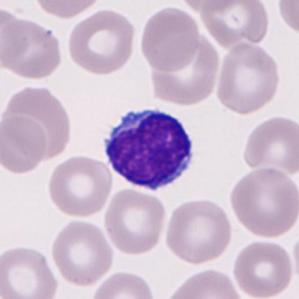Lymphocyte: (99, 102, 200, 196)
RBC: (1, 83, 74, 167), (147, 34, 223, 106), (227, 165, 298, 240), (214, 41, 283, 116), (164, 195, 234, 267), (65, 7, 138, 76), (101, 185, 169, 257), (49, 217, 116, 288), (45, 152, 113, 219), (138, 4, 202, 74), (1, 15, 65, 82), (230, 237, 296, 299), (240, 113, 298, 177), (198, 0, 272, 48), (0, 242, 61, 299), (0, 112, 47, 176), (162, 266, 245, 299), (89, 268, 159, 299), (0, 5, 29, 65), (31, 0, 105, 20), (275, 0, 298, 39), (176, 0, 236, 12)
